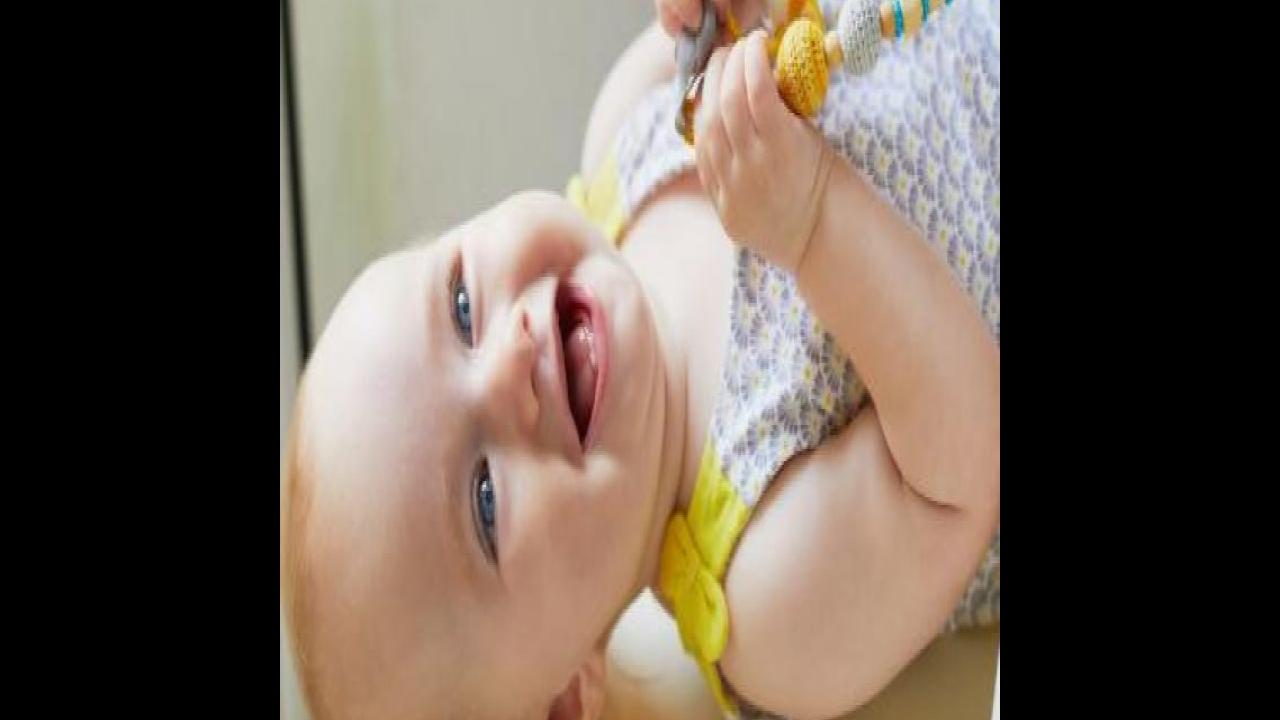hand: (692, 23, 818, 266), (649, 0, 752, 43)
